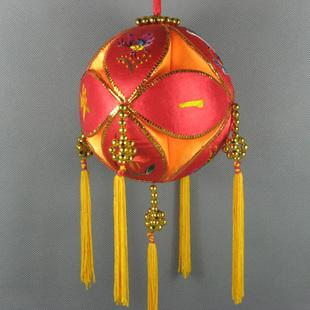xiuqiu: (78, 21, 237, 183)
